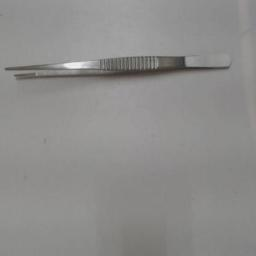DeBakey Dissector: (4, 45, 238, 89)
